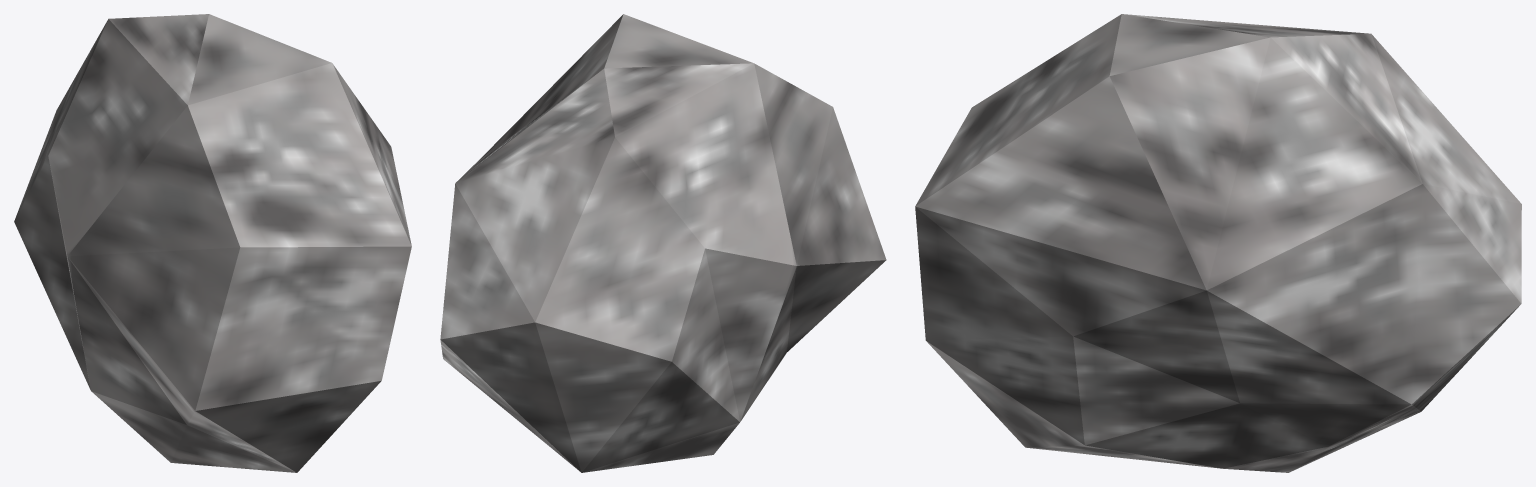
The model's file is small_rock_v2.glb.
3 views of the same model, side by side, from view 1: azimuth 30°, elevation 25°; view 2: azimuth 150°, elevation 25°; view 3: azimuth 270°, elevation 25° (orthographic). The views are drawn at different scales.
Parts seen in each view (by area): view 1: Sphere.004; view 2: Sphere.004; view 3: Sphere.004.
Part boxes in pixels (x1=…): Sphere.004: x1=14, y1=14, x2=411, y2=472; Sphere.004: x1=440, y1=14, x2=886, y2=472; Sphere.004: x1=915, y1=14, x2=1521, y2=472.
Bounding box in the file's own units: 1.88 × 2.24 × 2.71.
1 material, 1 textured.
